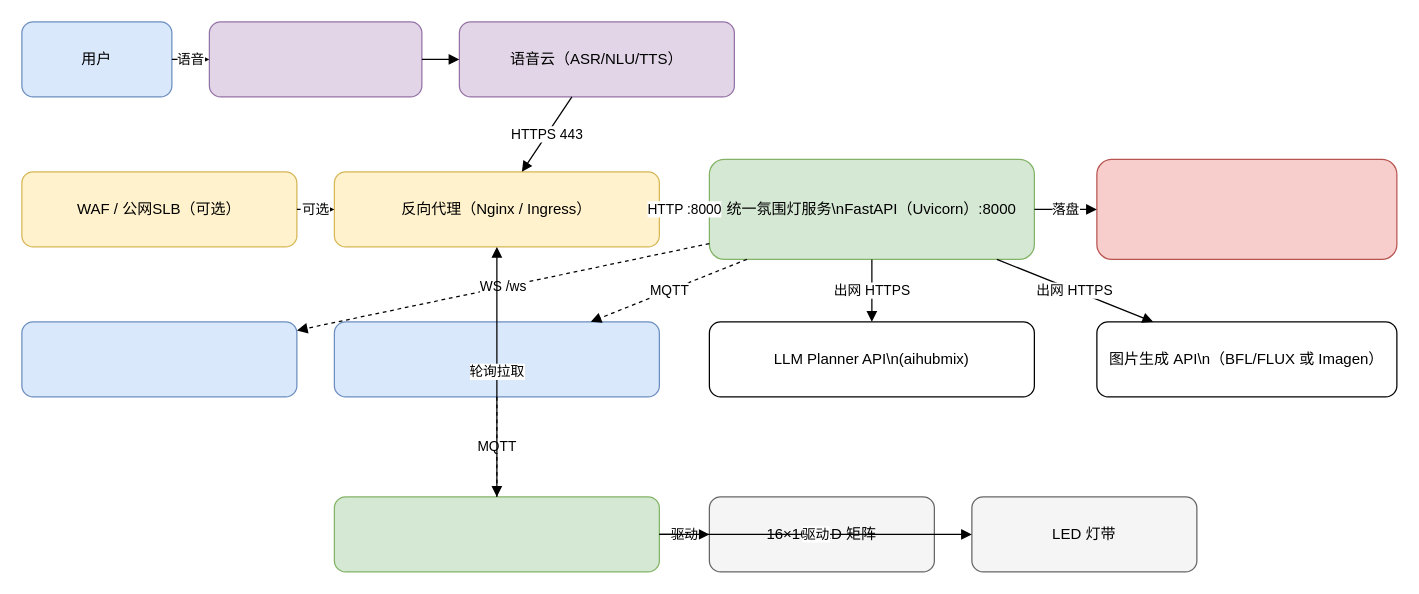
The diagram is 1419 pixels wide and 594 high, and some of its shapes have lost their labels. Each missing label, with the box of its shape:
MQTT Broker（可选）: (333, 321, 659, 397)
WebSocket 客户端\n（调试UI / 运营面板）: (21, 321, 297, 397)
持久化卷\nlatest_led_data.json\nlatest_strip_data.json: (1096, 158, 1397, 259)
设备网关 / MCU: (333, 496, 659, 572)
语音设备 / APP: (208, 21, 422, 97)
